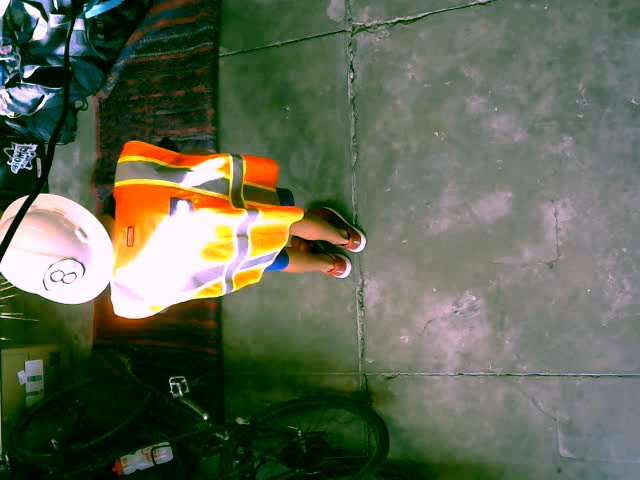eight: (43, 257, 86, 293)
